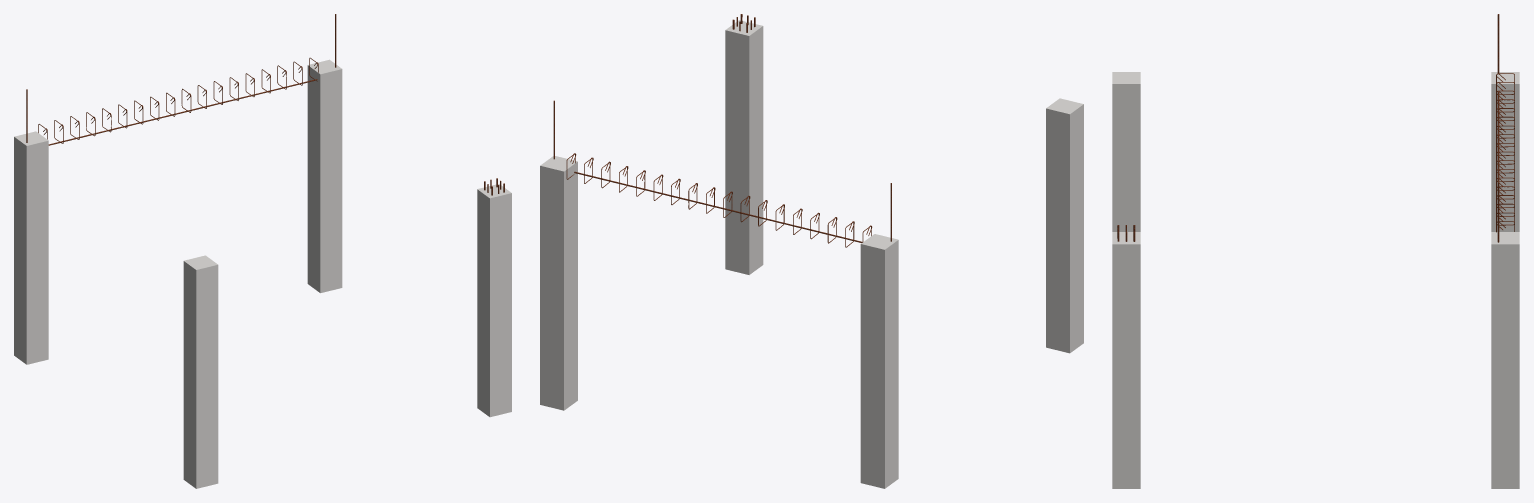
The picture shows the model from 3 angles, left to right: view 1: azimuth 30°, elevation 25°; view 2: azimuth 150°, elevation 25°; view 3: azimuth 270°, elevation 25°; orthographic projection. The views are drawn at different scales.
Visible parts, largest first — view 1: Concrete Square 300 x 300mm [338177]001, Concrete Square 300 x 300mm [337360]001, Concrete Square 300 x 300mm [337153]001, Concrete Square 300 x 300mm [338178]001, Rebar Bar H8 : Shape 52 [386813]_[319274]001, Rebar Bar H16 : Shape Rebar Shape 2 [386814]_[319274]001; view 2: Concrete Square 300 x 300mm [337153]001, Concrete Square 300 x 300mm [338178]001, Concrete Square 300 x 300mm [338177]001, Concrete Square 300 x 300mm [337360]001, Rebar Bar H8 : Shape 52 [386813]_[319274]001, Rebar Bar H16 : Shape Rebar Shape 2 [386814]_[319274]001; view 3: Concrete Square 300 x 300mm [337360]001, Concrete Square 300 x 300mm [338178]001, Concrete Square 300 x 300mm [338177]001, Concrete Square 300 x 300mm [337153]001, Rebar Bar H8 : Shape 52 [386813]_[319274]001, Rebar Bar H16 : Shape Rebar Shape 2 [386814]_[319274]001.
Boxes of the visible parts, box(x1,y1,x2,y2) form: Concrete Square 300 x 300mm [338177]001: box(183, 255, 218, 488); Concrete Square 300 x 300mm [337360]001: box(307, 59, 342, 293); Concrete Square 300 x 300mm [337153]001: box(14, 131, 48, 364); Concrete Square 300 x 300mm [338178]001: box(477, 184, 511, 417); Rebar Bar H8 : Shape 52 [386813]_[319274]001: box(38, 57, 318, 143); Rebar Bar H16 : Shape Rebar Shape 2 [386814]_[319274]001: box(26, 14, 336, 145); Concrete Square 300 x 300mm [337153]001: box(860, 234, 898, 488); Concrete Square 300 x 300mm [338178]001: box(725, 20, 763, 274); Concrete Square 300 x 300mm [338177]001: box(1046, 98, 1083, 353); Concrete Square 300 x 300mm [337360]001: box(540, 156, 577, 410); Rebar Bar H8 : Shape 52 [386813]_[319274]001: box(566, 153, 872, 247); Rebar Bar H16 : Shape Rebar Shape 2 [386814]_[319274]001: box(553, 100, 891, 242); Concrete Square 300 x 300mm [337360]001: box(1491, 232, 1519, 488); Concrete Square 300 x 300mm [338178]001: box(1112, 232, 1140, 488); Concrete Square 300 x 300mm [338177]001: box(1112, 72, 1140, 231); Concrete Square 300 x 300mm [337153]001: box(1491, 72, 1519, 231); Rebar Bar H8 : Shape 52 [386813]_[319274]001: box(1496, 73, 1514, 232); Rebar Bar H16 : Shape Rebar Shape 2 [386814]_[319274]001: box(1497, 14, 1499, 242).
Bounding box in the file's own units: 4.3 × 3.54 × 4.3.
Materials: 2 (1 with a texture image).
